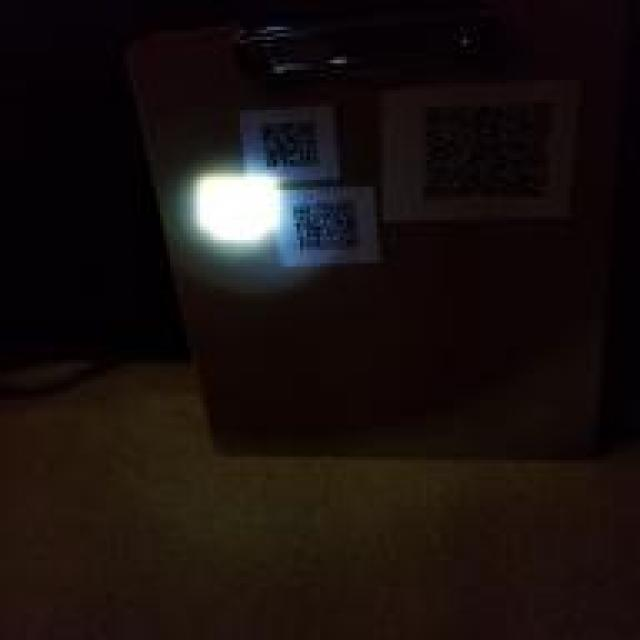QR_CODE: (413, 87, 567, 213), (247, 107, 330, 180), (282, 193, 366, 260)
